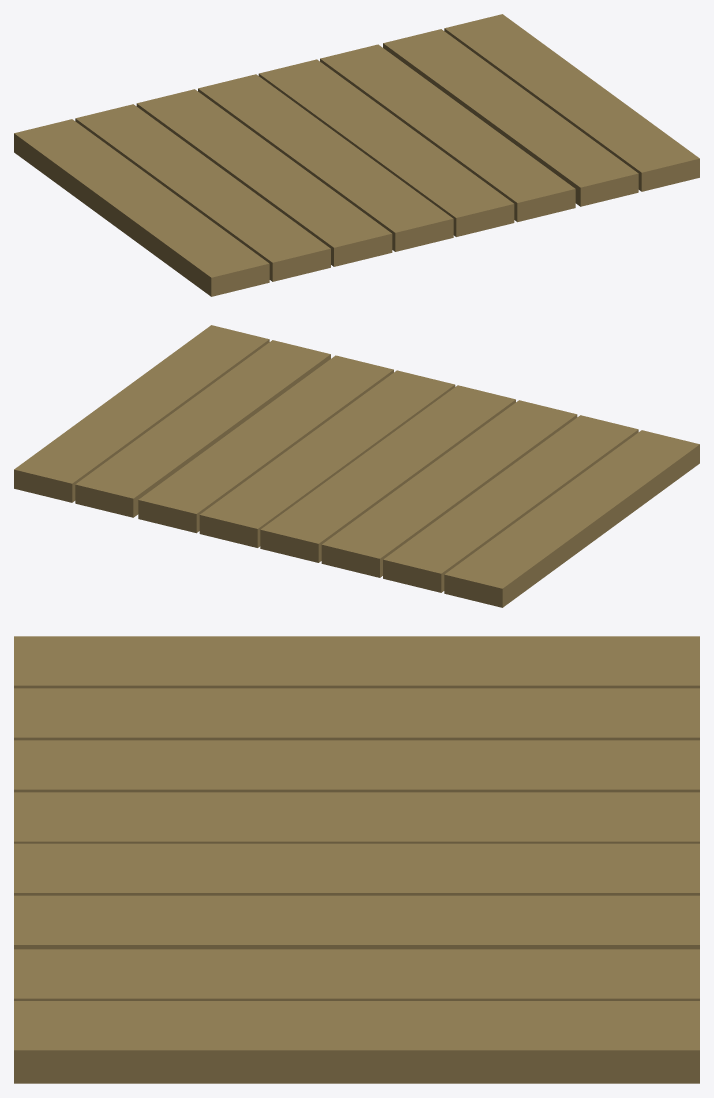
Rendered from Magical_bridge_AK.fbx.
3 views of the same model, one above another, from view 1: azimuth 30°, elevation 25°; view 2: azimuth 150°, elevation 25°; view 3: azimuth 270°, elevation 25° (orthographic). The views are drawn at different scales.
Parts seen in each view (by area): view 1: Magical_Bridge_AK; view 2: Magical_Bridge_AK; view 3: Magical_Bridge_AK.
Part boxes in pixels (x1,y1,x2,y2): Magical_Bridge_AK: (14, 14, 699, 296); Magical_Bridge_AK: (14, 325, 699, 607); Magical_Bridge_AK: (14, 636, 699, 1083).
Bounding box in the file's own units: 424 × 15.88 × 297.
